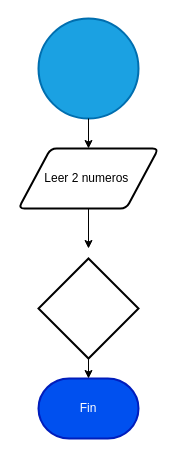
Some shapes in this 176 by 456 pixel diagram are drawn without their labels. Here are the shapes that lost their labels. From the top down, the box of each, then its label:
(37, 17, 139, 119): Inicio
(37, 257, 139, 359): Ordenar de menor a mayor
